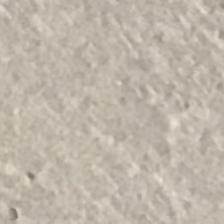Non_Crack: (8, 11, 212, 217)
